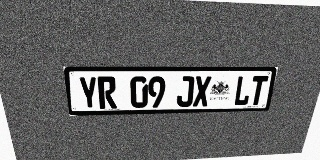0: (130, 76, 148, 108)
9: (148, 76, 166, 108)
J: (176, 76, 195, 107)
L: (233, 76, 253, 106)
R: (97, 76, 117, 109)
T: (248, 76, 269, 105)
X: (193, 76, 211, 107)
Y: (78, 76, 99, 109)
